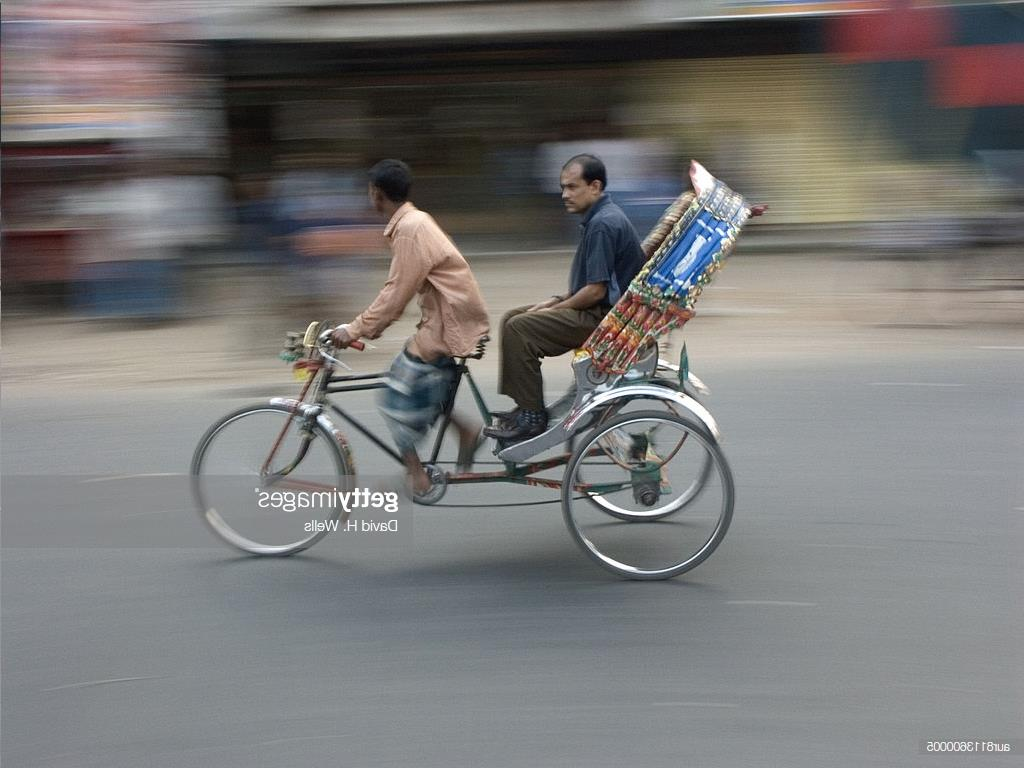Rickshaw: (200, 134, 747, 589)
